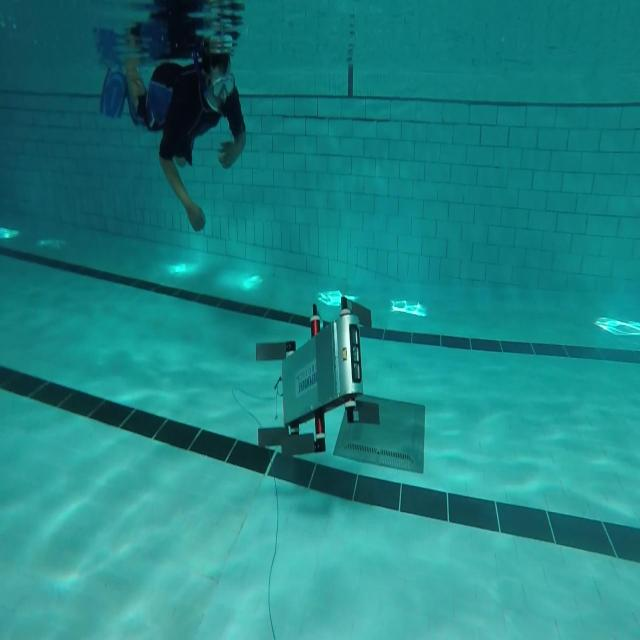human: (99, 32, 246, 233)
